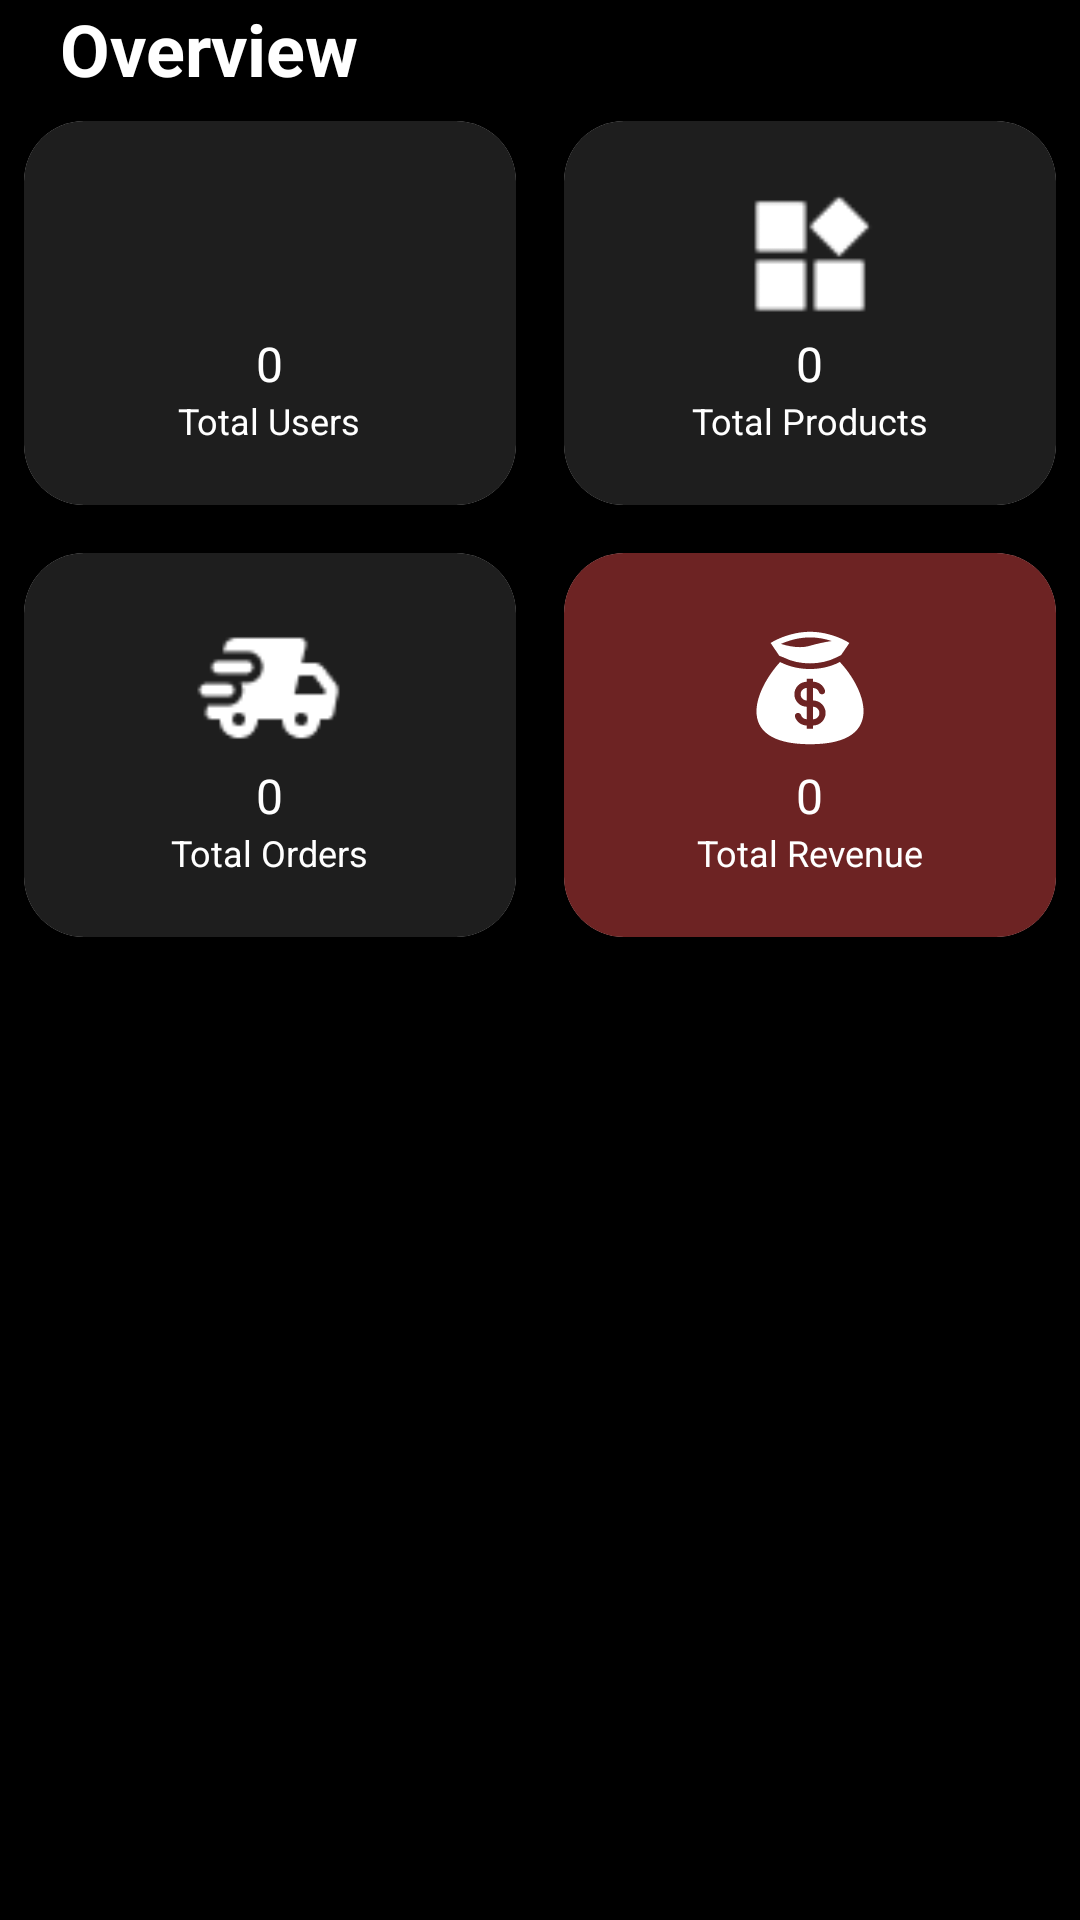

Screen size 1080w x 1920h. Icon name, then its center in pixels as (x=x, y=y):
money: (x=810, y=688)
ordered: (x=268, y=688)
